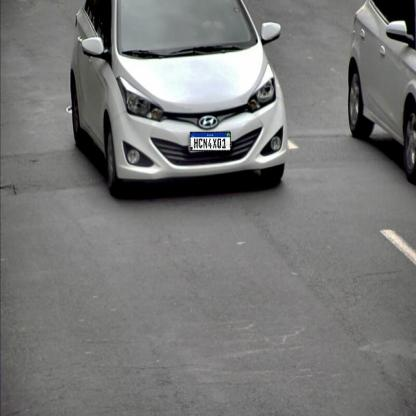PlacaM: (190, 132, 231, 151)
